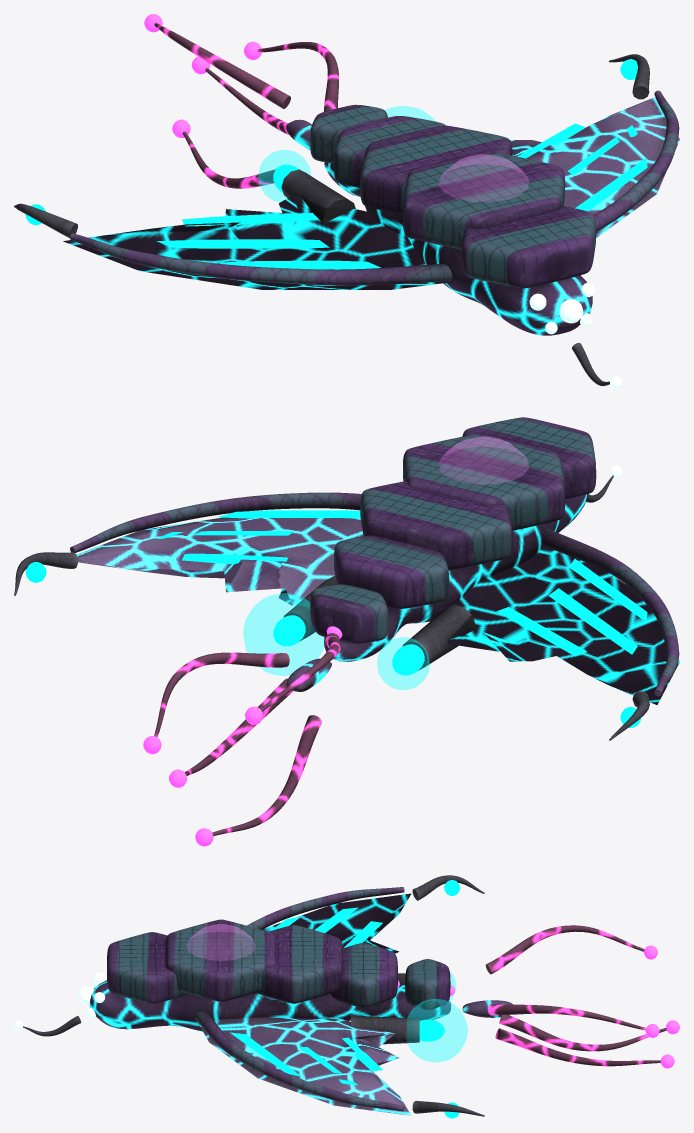
The model's file is enemy_huntress.glb.
3 renders of one model, top to bottom at view 1: azimuth 30°, elevation 25°; view 2: azimuth 150°, elevation 25°; view 3: azimuth 270°, elevation 25°, orthographic. The views are drawn at different scales.
Parts seen in each view (by area): view 1: hull, wing1, wing0, Sphere.017, tendril1, Sphere.021, tendril0, tendril3, tendril2; view 2: hull, wing1, wing0, Sphere.019, Sphere.017, Sphere.021, tendril0, tendril3, tendril2, tendril1, Sphere.020, Sphere.018; view 3: hull, wing0, wing1, Sphere.019, Sphere.017, tendril1, tendril2, tendril3, tendril0, Sphere.018.
Boxes of the visible parts, x1,y1,x2,y2 form: hull: (281,104,609,386); wing1: (14,195,452,289); wing0: (510,54,679,237); Sphere.017: (439,154,528,201); tendril1: (144,14,290,108); Sphere.021: (258,150,310,201); tendril0: (244,41,338,111); tendril3: (172,119,275,188); tendril2: (191,56,288,134); hull: (283,417,613,691); wing1: (444,528,679,740); wing0: (14,492,363,605); Sphere.019: (243,593,323,675); Sphere.017: (439,437,528,483); Sphere.021: (377,637,429,689); tendril0: (143,652,289,754); tendril3: (195,715,321,846); tendril2: (169,678,293,787); tendril1: (245,633,341,724); Sphere.020: (392,644,424,675); Sphere.018: (273,615,305,646); hull: (23,919,512,1044); wing0: (194,1011,484,1118); wing1: (247,875,484,953); Sphere.019: (407,999,467,1062); Sphere.017: (187,924,255,960); tendril1: (485,925,657,974); tendril2: (499,1015,679,1051); tendril3: (495,1028,674,1068); tendril0: (488,1004,659,1037); Sphere.018: (419,1019,444,1041).
Bounding box in the file's own units: 2.72 × 0.808 × 3.29.
8 materials, 2 textured.
